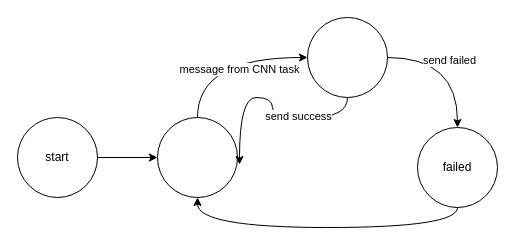
Some shapes in this 515 by 245 pixel diagram are drawn without their labels. Each missing label, with the centre of its shape:
"idle" belongs at point 197,157.
"motion detect" belongs at point 347,57.
